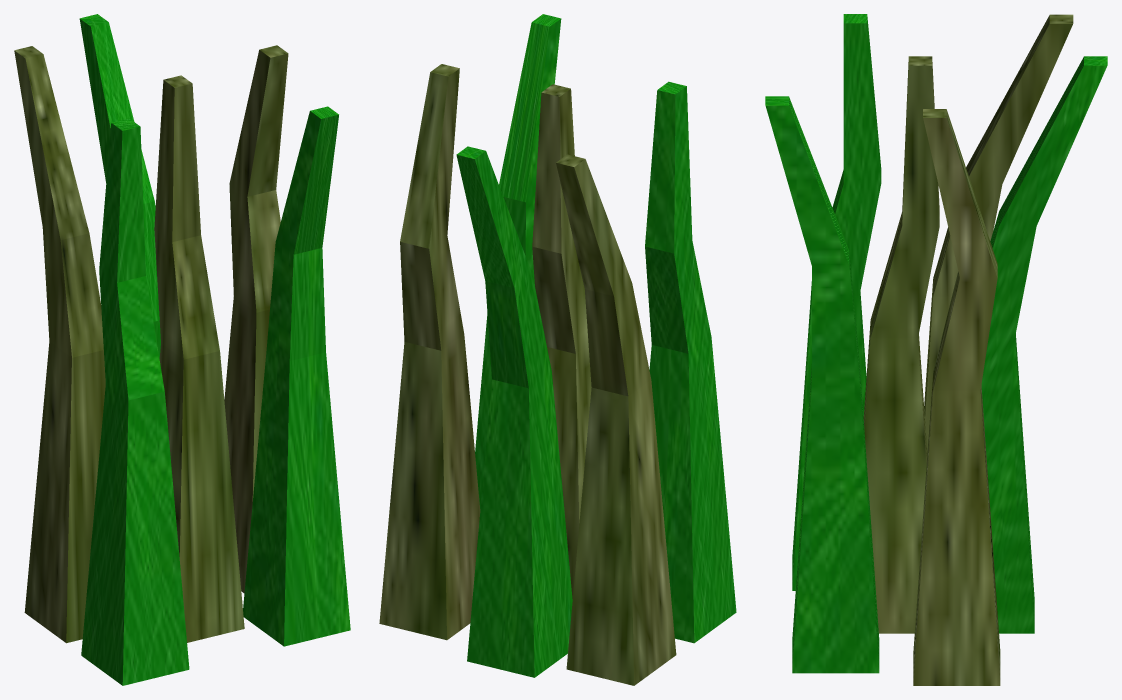
The model's file is Bushes.fbx.
3 renders of one model, left to right at view 1: azimuth 30°, elevation 25°; view 2: azimuth 150°, elevation 25°; view 3: azimuth 270°, elevation 25°, orthographic. The views are drawn at different scales.
Visible parts, largest first — view 1: Leaves, Bushes; view 2: Leaves, Bushes; view 3: Leaves, Bushes.
Part boxes in pixels (bbox=[...]): Leaves: bbox=[14, 45, 288, 643]; Bushes: bbox=[79, 14, 350, 685]; Leaves: bbox=[379, 64, 676, 685]; Bushes: bbox=[456, 14, 736, 677]; Leaves: bbox=[863, 14, 1073, 685]; Bushes: bbox=[765, 14, 1107, 673].
Bounding box in the file's own units: 46.9 × 94.2 × 52.57.
Materials: 2 (2 with a texture image).
